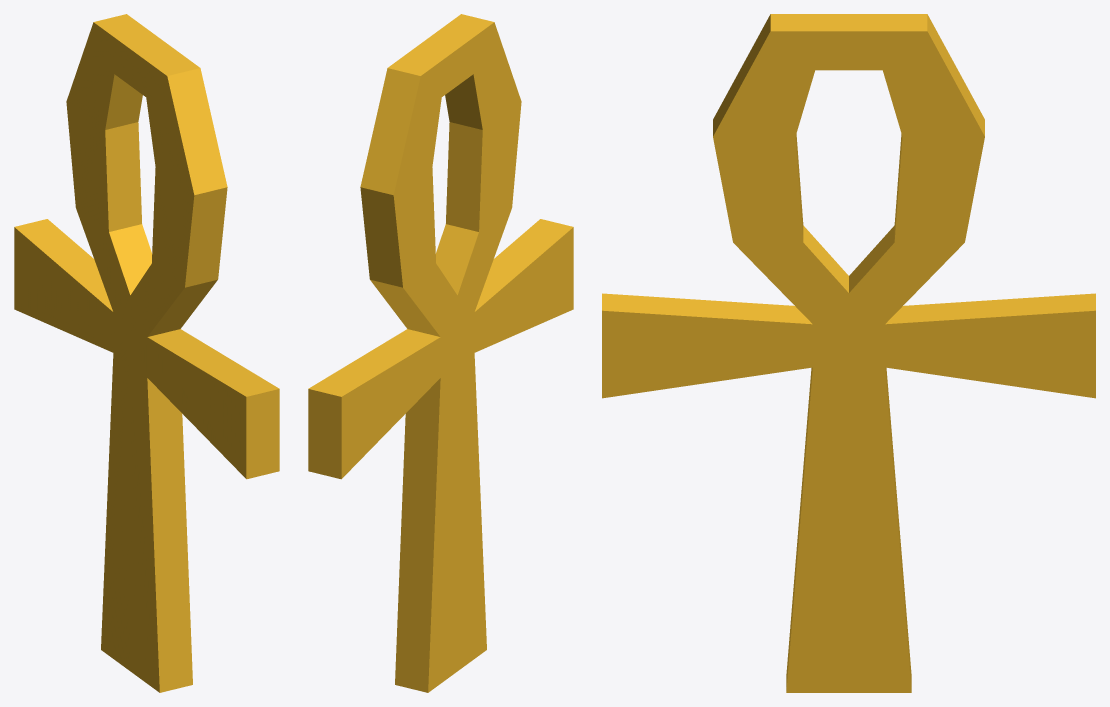
Rendered from Ank.fbx.
The picture shows the model from 3 angles, left to right: view 1: azimuth 30°, elevation 25°; view 2: azimuth 150°, elevation 25°; view 3: azimuth 270°, elevation 25°; orthographic projection. The views are drawn at different scales.
Parts seen in each view (by area): view 1: Cruz; view 2: Cruz; view 3: Cruz.
Part boxes in pixels (x1,y1,x2,y2): Cruz: [14, 14, 279, 692]; Cruz: [308, 14, 573, 692]; Cruz: [602, 14, 1095, 692].
Size of the model in its own units: 0.7735 by 13.84 by 9.36.
